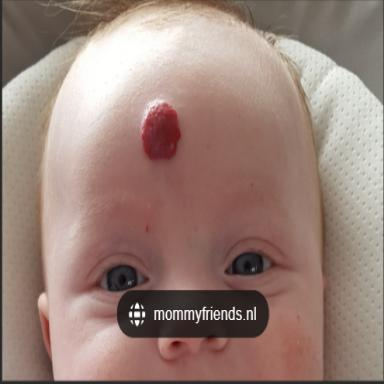Hemangiome: (142, 101, 181, 159)
